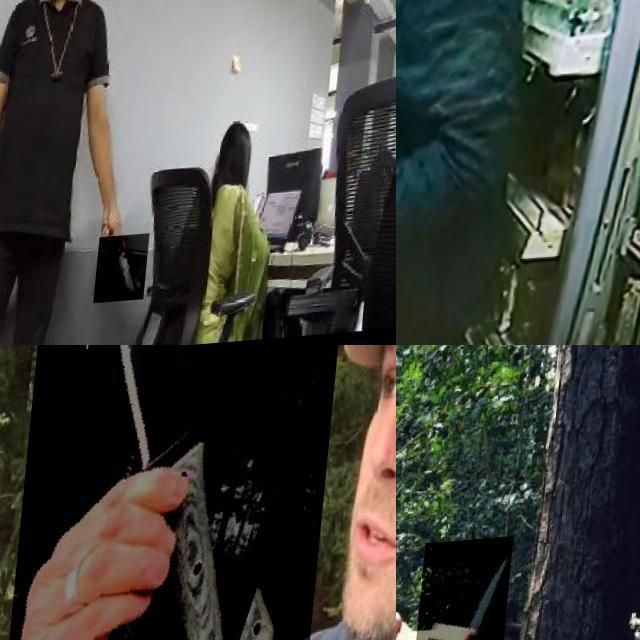-: (12, 345, 353, 640), (415, 544, 518, 640), (106, 240, 160, 309)
gun-knife-thesis - v11 Yolov5 augmented: (396, 169, 432, 235)
